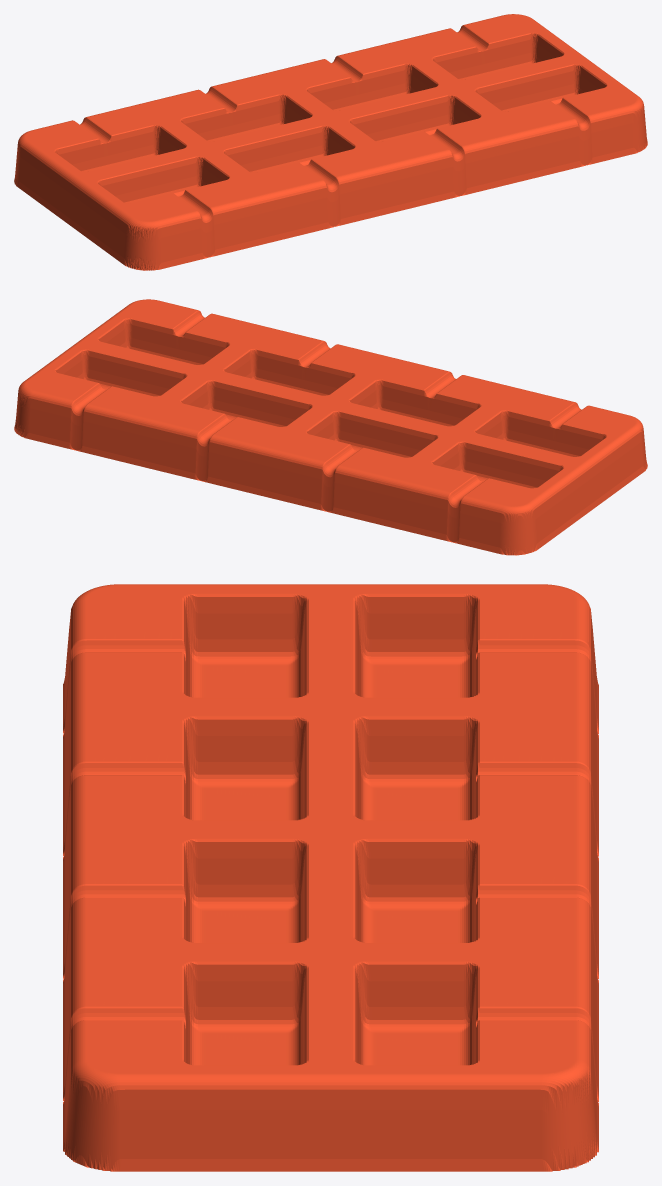
File: mold.glb
3 renders of one model, top to bottom at view 1: azimuth 30°, elevation 25°; view 2: azimuth 150°, elevation 25°; view 3: azimuth 270°, elevation 25°, orthographic. The views are drawn at different scales.
Visible parts, largest first — view 1: geometry_0; view 2: geometry_0; view 3: geometry_0.
Part boxes in pixels (bbox=[...]): geometry_0: bbox=[14, 14, 647, 270]; geometry_0: bbox=[14, 299, 647, 555]; geometry_0: bbox=[63, 584, 598, 1171].
Size of the model in its own units: 0.1907 by 0.0155 by 0.0851.
